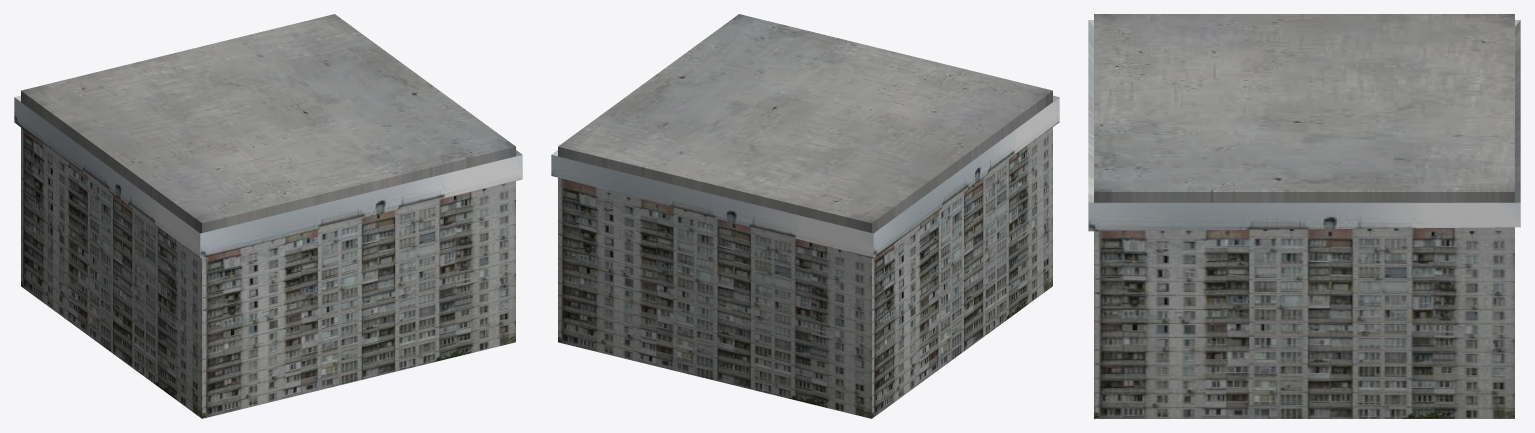
The model's file is 낮은건물5(06-09).FBX.
3 views of the same model, side by side, from view 1: azimuth 30°, elevation 25°; view 2: azimuth 150°, elevation 25°; view 3: azimuth 270°, elevation 25° (orthographic). The views are drawn at different scales.
Parts seen in each view (by area): view 1: Box001; view 2: Box001; view 3: Box001.
Boxes of the visible parts, <box> form: Box001: <box>14,14,522,418</box>; Box001: <box>551,14,1059,418</box>; Box001: <box>1088,14,1520,418</box>.
Size of the model in its own units: 257 by 149 by 257.
